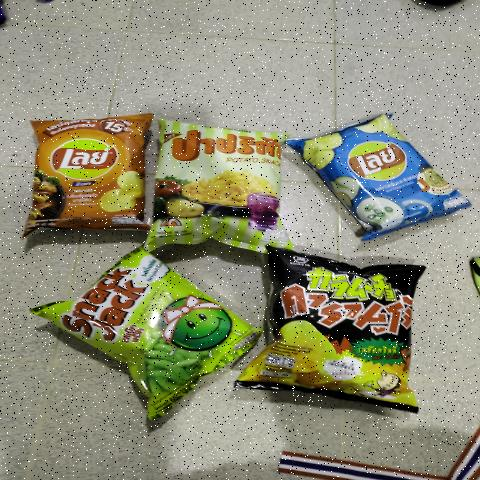karamujo: (281, 260, 421, 404)
lay_blue: (316, 120, 455, 236)
paprika: (162, 124, 283, 252)
snack_jack: (78, 269, 243, 399)
